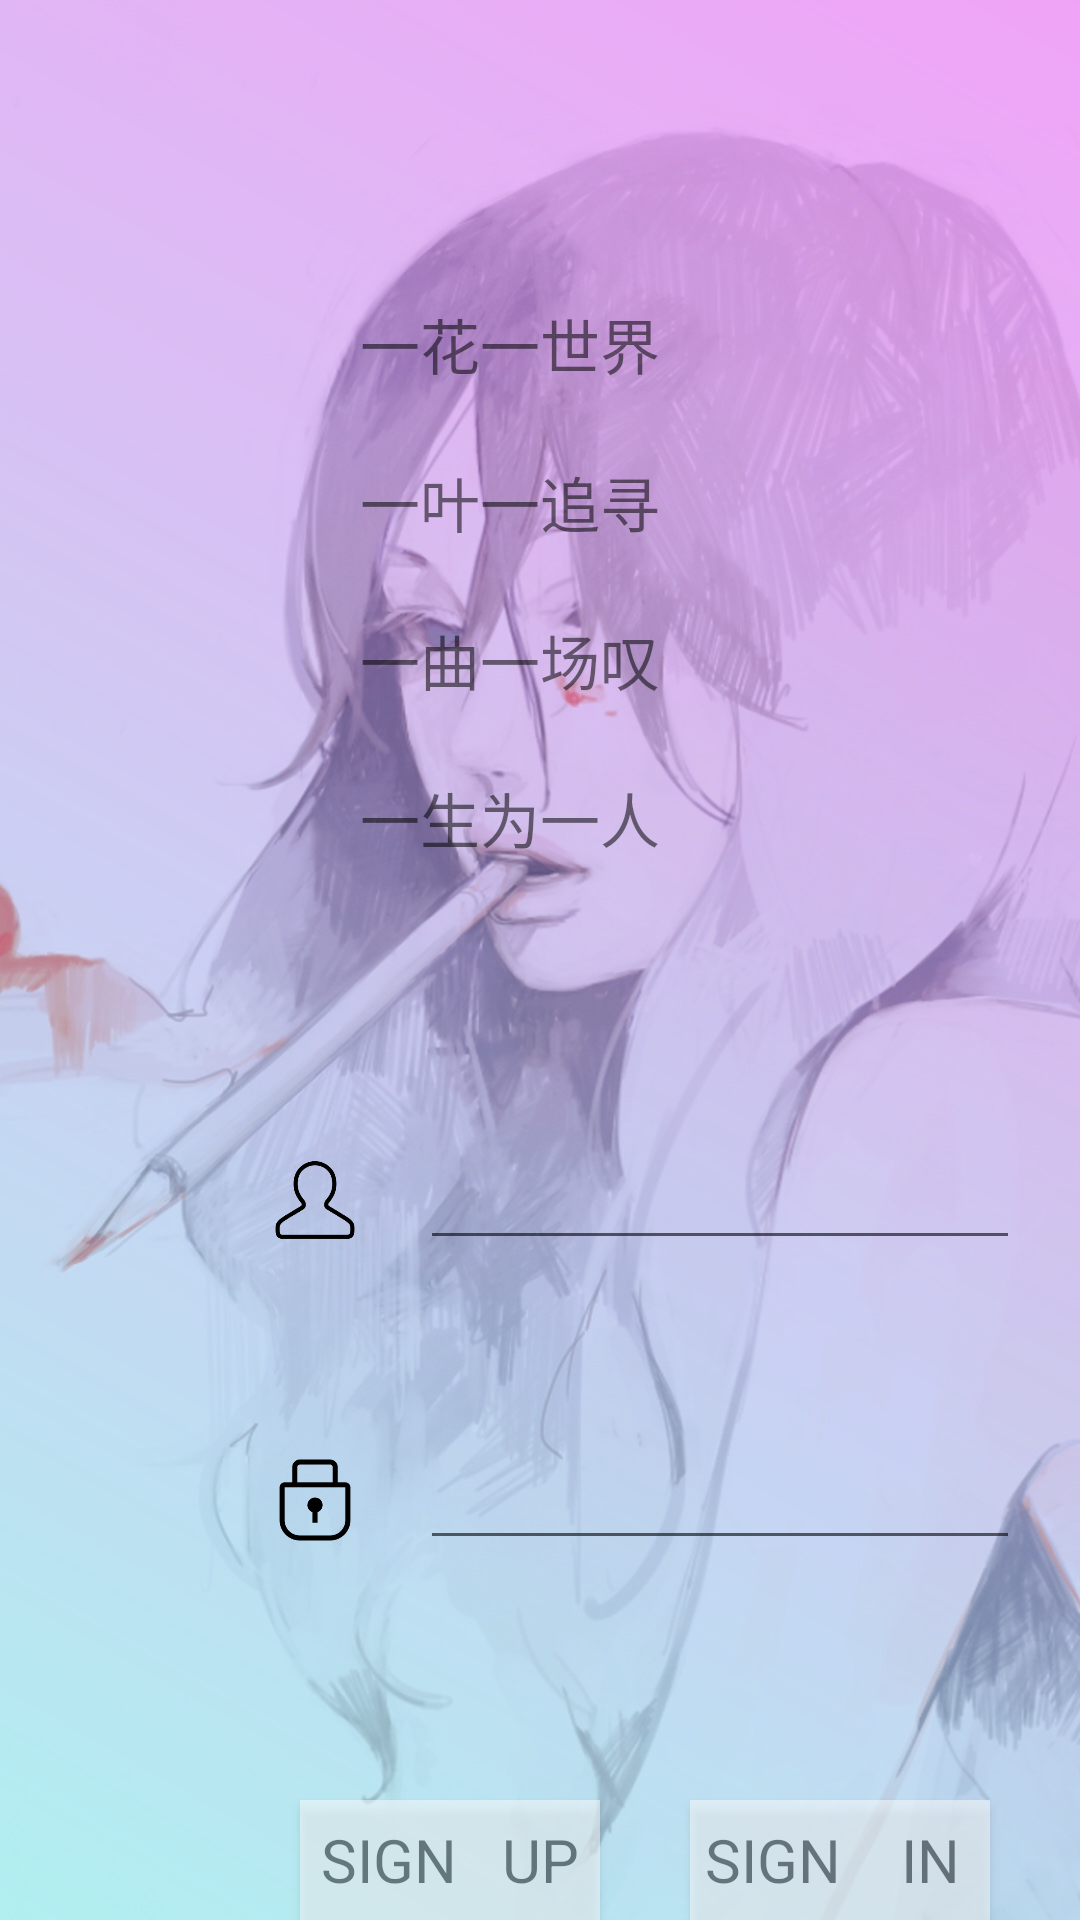

Screen size 1080px×1920px. Icon name, then its center in pixels as (x,y):
password: (315,1500)
user: (315,1200)
